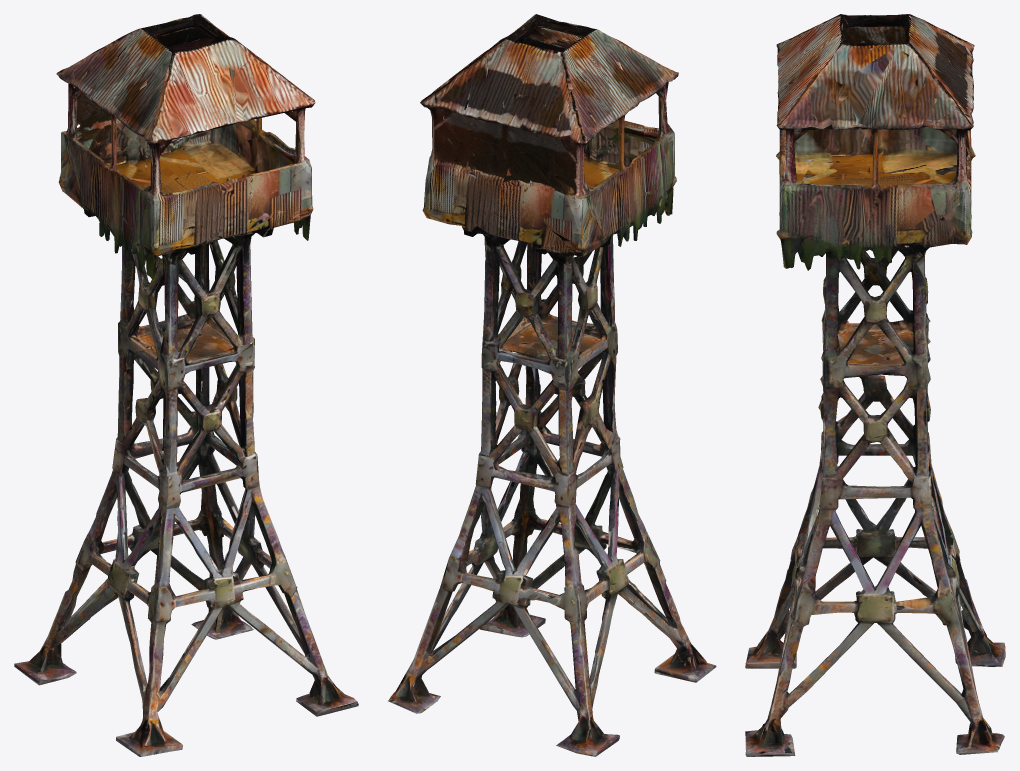
The model's file is watchtower.glb.
The picture shows the model from 3 angles, left to right: view 1: azimuth 30°, elevation 25°; view 2: azimuth 150°, elevation 25°; view 3: azimuth 270°, elevation 25°; orthographic projection. The views are drawn at different scales.
Parts seen in each view (by area): view 1: watchtower; view 2: watchtower; view 3: watchtower.
Part boxes in pixels (x1,y1,x2,y2): watchtower: [14, 14, 358, 756]; watchtower: [388, 14, 716, 756]; watchtower: [745, 14, 1005, 756].
Size of the model in its own units: 70.21 by 201 by 70.3.
Materials: 1 (1 with a texture image).
